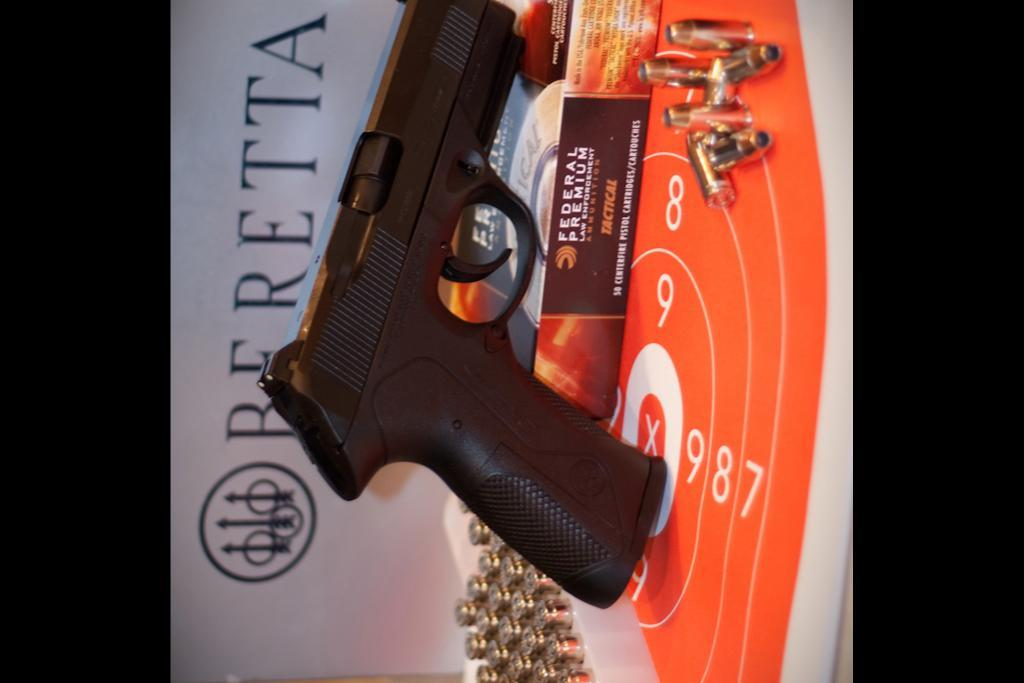gun: (258, 0, 678, 610)
